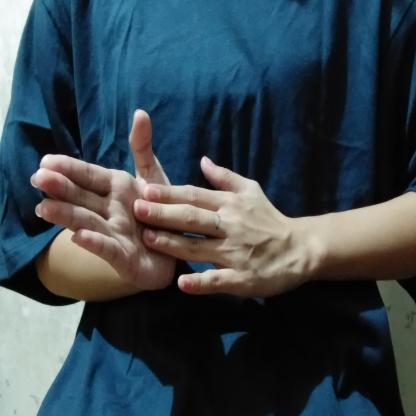mother: (27, 102, 416, 307)
